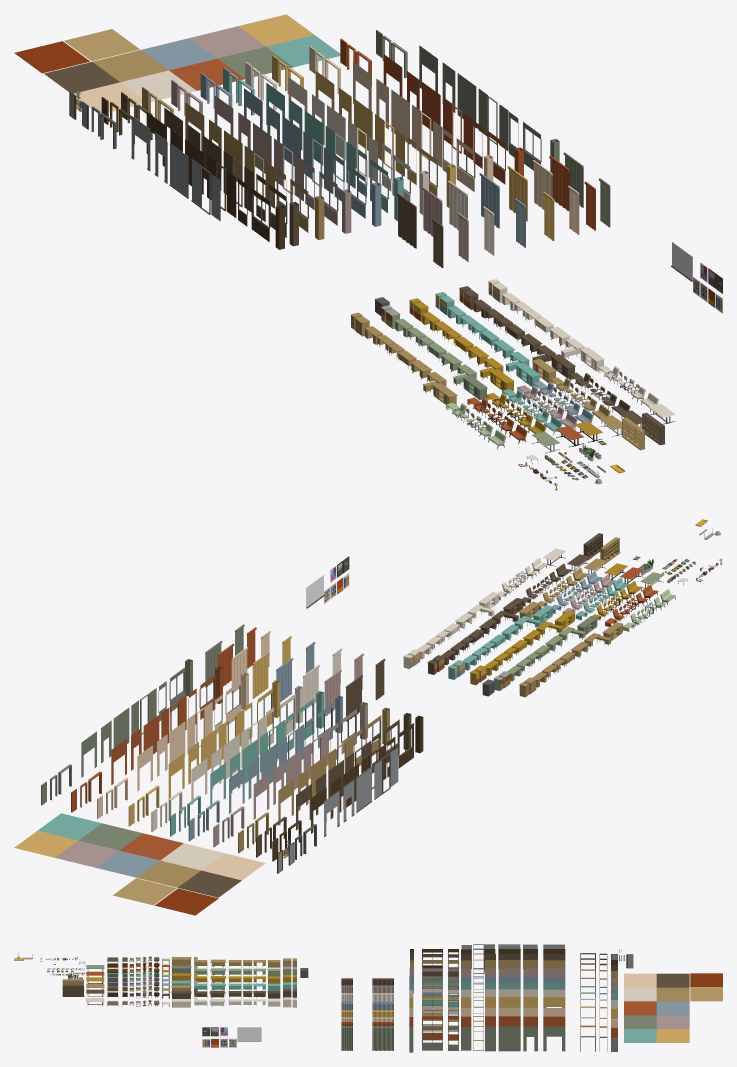
The model's file is 80s office.fbx.
The picture shows the model from 3 angles, top to bottom: view 1: azimuth 30°, elevation 25°; view 2: azimuth 150°, elevation 25°; view 3: azimuth 270°, elevation 25°; orthographic projection. The views are drawn at different scales.
Visible parts, largest first — view 1: tile.05, tile.012, tile.04, tile.06, tile.08, tile.011, tile.03, tile.02, tile.07, tile.010, tile.01, tile.09 (+5 smaller); view 2: tile.07, tile.02, tile.08, tile.09, tile.01, tile.03, tile.04, tile.05, tile.06, tile.010, tile.011, tile.012; view 3: big deep green wall, deep green curtains, tile.03, tile.06, tile.04, tile.07, tile.09, tile.010, tile.011, tile.012, tile.05, tile.08 (+25 smaller).
Part boxes in pixels (<box>): tile.05: <box>190,26,265,58</box>; tile.012: <box>14,41,89,73</box>; tile.04: <box>92,50,168,82</box>; tile.06: <box>141,38,216,70</box>; tile.08: <box>238,14,314,46</box>; tile.011: <box>64,29,139,61</box>; tile.03: <box>44,62,119,93</box>; tile.02: <box>266,35,340,66</box>; tile.07: <box>121,70,196,101</box>; tile.010: <box>169,58,244,90</box>; tile.01: <box>218,47,293,78</box>; tile.09: <box>73,82,141,113</box>; tile.07: <box>160,843,224,870</box>; tile.02: <box>38,813,101,840</box>; tile.08: <box>14,830,77,857</box>; tile.09: <box>201,853,265,880</box>; tile.01: <box>79,823,142,850</box>; tile.03: <box>178,870,241,897</box>; tile.04: <box>137,860,200,887</box>; tile.05: <box>55,840,118,867</box>; tile.06: <box>96,850,159,877</box>; tile.010: <box>120,833,183,860</box>; tile.011: <box>113,878,176,905</box>; tile.012: <box>155,888,218,915</box>; big deep green wall: <box>498,1026,520,1051</box>; deep green curtains: <box>372,1026,393,1050</box>; tile.03: <box>656,973,689,987</box>; tile.06: <box>656,1001,689,1015</box>; tile.04: <box>656,987,689,1001</box>; tile.07: <box>624,987,656,1001</box>; tile.09: <box>624,973,656,987</box>; tile.010: <box>624,1001,656,1015</box>; tile.011: <box>690,987,722,1001</box>; tile.012: <box>690,973,722,987</box>; tile.05: <box>656,1015,689,1028</box>; tile.08: <box>656,1029,689,1042</box>.
Bounding box in the file's own units: 4017 × 518 × 12985.
